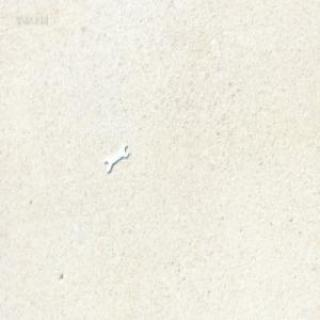Wrenchtrack_idkeyframe: (103, 140, 128, 170)
